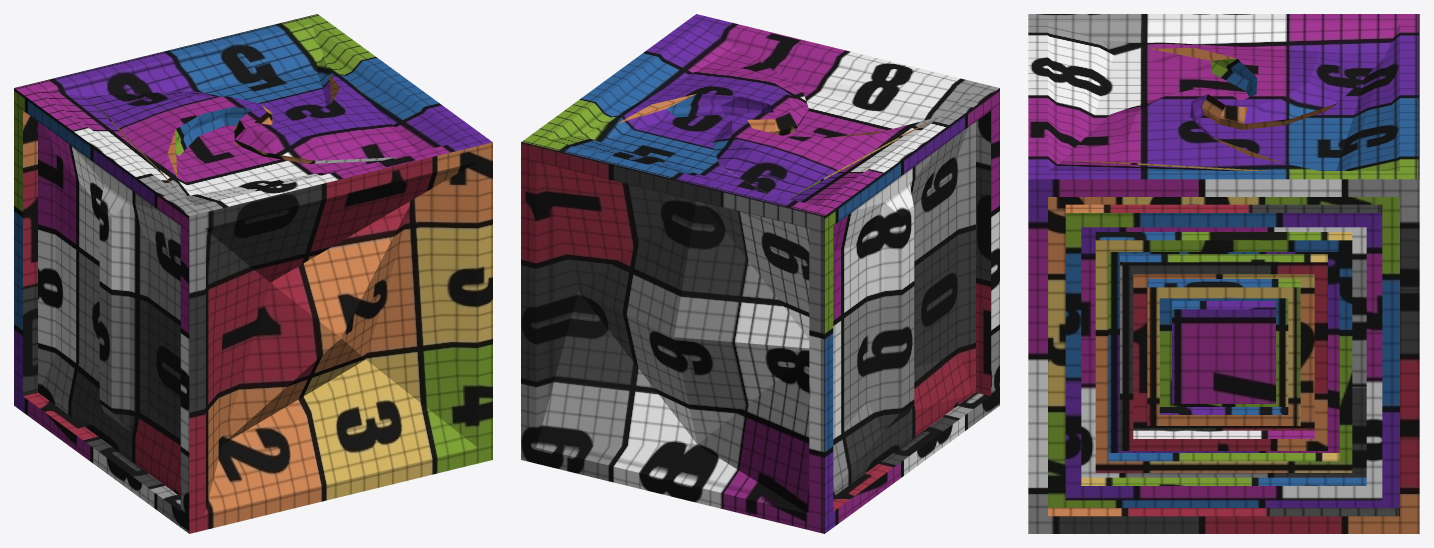
Rendered from wallblock.dae.
3 views of the same model, side by side, from view 1: azimuth 30°, elevation 25°; view 2: azimuth 150°, elevation 25°; view 3: azimuth 270°, elevation 25° (orthographic). The views are drawn at different scales.
Parts seen in each view (by area): view 1: Cube; view 2: Cube; view 3: Cube.
Part boxes in pixels (<box>): Cube: <box>14,14,492,533</box>; Cube: <box>521,14,999,533</box>; Cube: <box>1028,14,1419,533</box>.
Bounding box in the file's own units: 2 × 2 × 2.02.
1 material, 1 textured.
